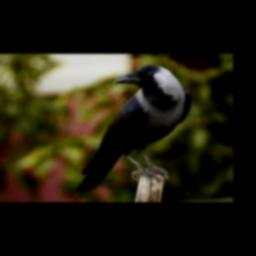Crow: (76, 64, 190, 192)
